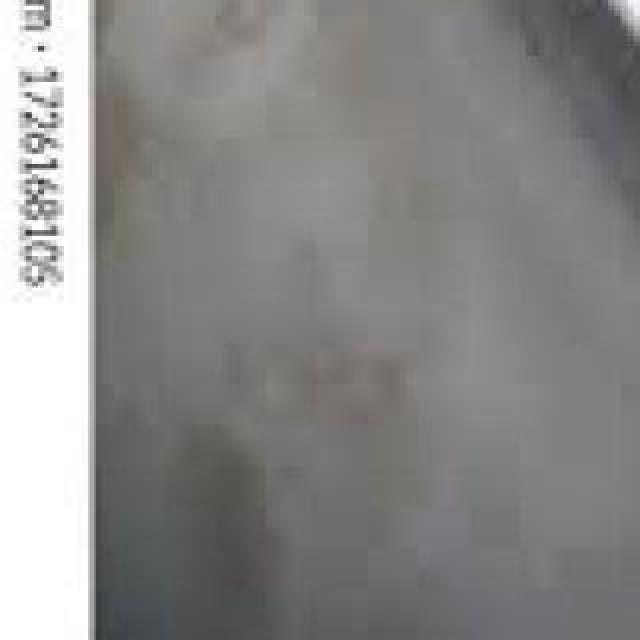fluorescent tube: (184, 0, 640, 492)
